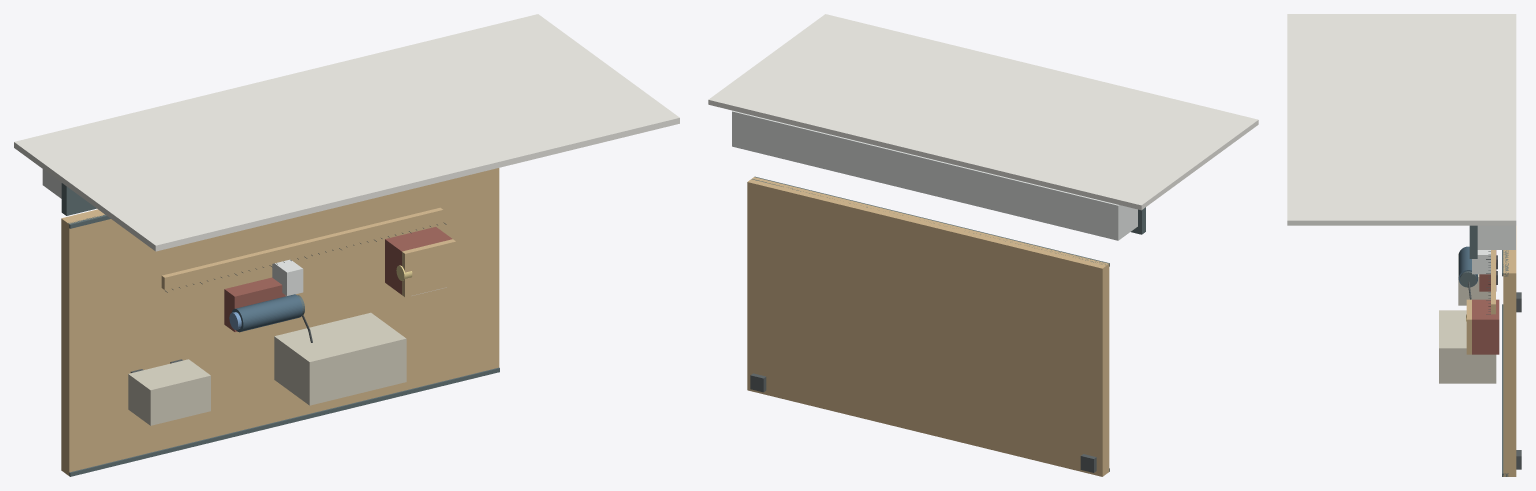
The model's file is rp12-inverse-square.glb.
3 views of the same model, side by side, from view 1: azimuth 30°, elevation 25°; view 2: azimuth 150°, elevation 25°; view 3: azimuth 270°, elevation 25° (orthographic). The views are drawn at different scales.
Parts seen in each view (by area): view 1: Laboratory background wall, Laboratory bench laminate, Virtual scaler counter cream case, Metre rule, Timer grey case, Simulation source holder lid, Laboratory bench dark edge, Virtual GM tube, Simulation source holder, Virtual GM tube support, Distance reference block; view 2: Laboratory bench laminate, Laboratory background wall, Laboratory background cabinet carcass, Laboratory bench rear edge; view 3: Laboratory background wall, Laboratory bench laminate, Virtual scaler counter cream case, Simulation source holder, Laboratory background cabinet carcass, Timer grey case, Distance reference block, Virtual GM tube, Laboratory bench dark edge, Simulation source holder lid, Metre rule, Laboratory background worktop.
Part boxes in pixels (bbox=[...]): Laboratory background wall: bbox=[14, 14, 679, 251]; Laboratory bench laminate: bbox=[61, 168, 499, 475]; Virtual scaler counter cream case: bbox=[274, 312, 406, 405]; Metre rule: bbox=[161, 207, 443, 289]; Timer grey case: bbox=[128, 359, 210, 425]; Simulation source holder lid: bbox=[402, 239, 455, 297]; Laboratory bench dark edge: bbox=[69, 367, 499, 476]; Virtual GM tube: bbox=[231, 294, 302, 332]; Simulation source holder: bbox=[385, 227, 452, 294]; Virtual GM tube support: bbox=[224, 277, 285, 331]; Distance reference block: bbox=[272, 259, 303, 295]; Laboratory bench laminate: bbox=[747, 177, 1109, 476]; Laboratory background wall: bbox=[708, 14, 1258, 210]; Laboratory background cabinet carcass: bbox=[732, 110, 1137, 240]; Laboratory bench rear edge: bbox=[751, 176, 1109, 266]; Laboratory background wall: bbox=[1287, 14, 1516, 225]; Laboratory bench laminate: bbox=[1503, 226, 1516, 476]; Virtual scaler counter cream case: bbox=[1439, 310, 1496, 383]; Simulation source holder: bbox=[1472, 299, 1499, 354]; Laboratory background cabinet carcass: bbox=[1477, 225, 1515, 249]; Timer grey case: bbox=[1458, 253, 1490, 305]; Distance reference block: bbox=[1472, 250, 1490, 274]; Virtual GM tube: bbox=[1458, 246, 1477, 286]; Laboratory bench dark edge: bbox=[1502, 304, 1508, 476]; Simulation source holder lid: bbox=[1466, 299, 1471, 354]; Metre rule: bbox=[1491, 250, 1495, 314]; Laboratory background worktop: bbox=[1469, 225, 1477, 258].
Size of the model in its own units: 11.1 by 6.88 by 5.32.
